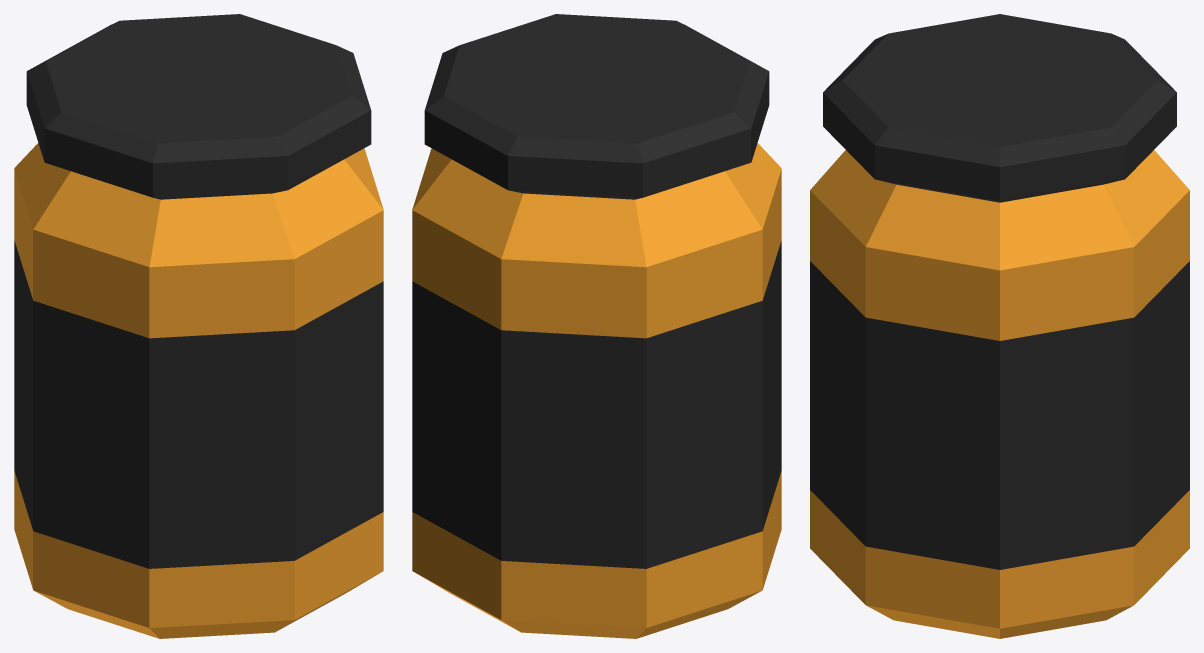
Rendered from food_honey.fbx.
The picture shows the model from 3 angles, left to right: view 1: azimuth 30°, elevation 25°; view 2: azimuth 150°, elevation 25°; view 3: azimuth 270°, elevation 25°; orthographic projection.
Parts seen in each view (by area): view 1: food_honey; view 2: food_honey; view 3: food_honey.
Boxes of the visible parts, bbox=[...] form: food_honey: bbox=[14, 14, 383, 638]; food_honey: bbox=[412, 14, 781, 638]; food_honey: bbox=[810, 14, 1189, 638].
Size of the model in its own units: 139 by 200 by 139.
